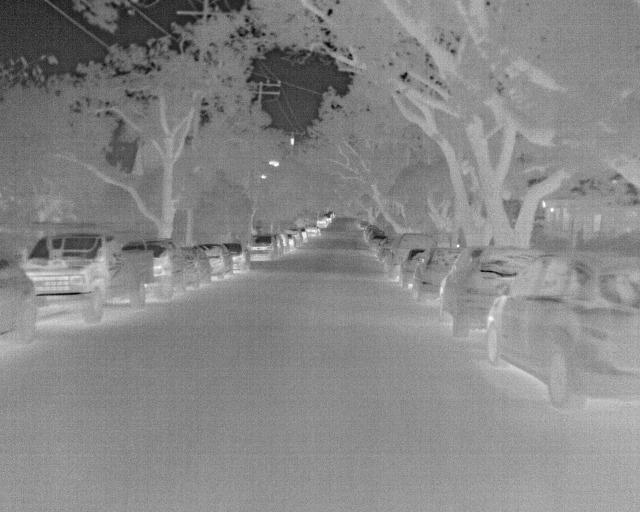car: (482, 252, 639, 412), (17, 229, 156, 324), (437, 246, 535, 334), (115, 238, 191, 301), (0, 256, 42, 346), (412, 245, 466, 304), (387, 230, 434, 280), (173, 244, 211, 286), (194, 242, 232, 275), (244, 233, 281, 263), (221, 241, 247, 269), (368, 236, 388, 252), (300, 224, 321, 236)
